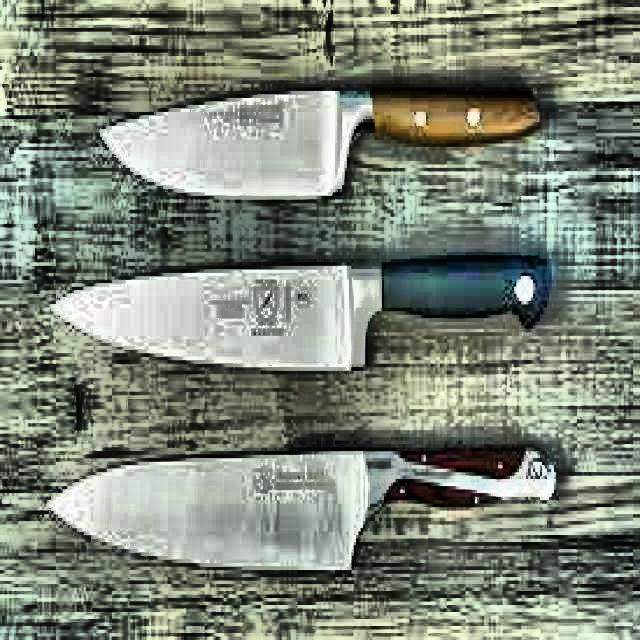knife: (42, 442, 568, 574), (49, 246, 554, 380), (98, 81, 558, 200)
